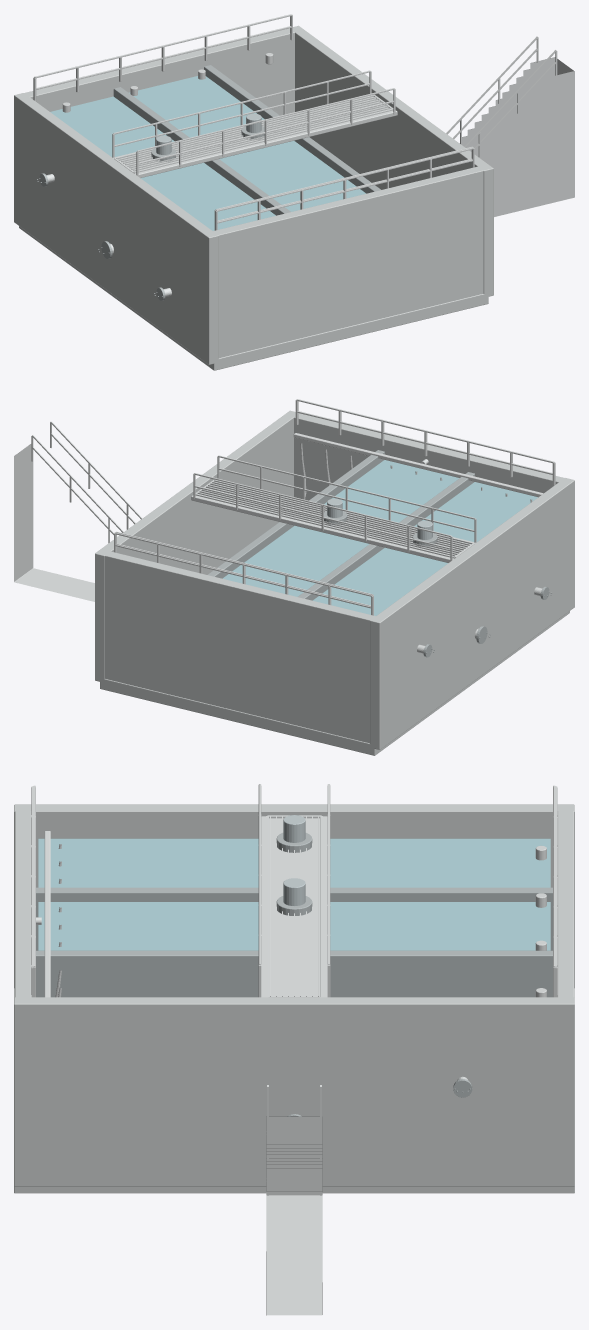
3 views of the same model, one above another, from view 1: azimuth 30°, elevation 25°; view 2: azimuth 150°, elevation 25°; view 3: azimuth 270°, elevation 25° (orthographic). The views are drawn at different scales.
Visible parts, largest first — view 1: render-batch-3, render-batch-4, render-batch-0, render-batch-5, render-batch-1, render-batch-2; view 2: render-batch-3, render-batch-0, render-batch-4, render-batch-5, render-batch-1, render-batch-6, render-batch-2; view 3: render-batch-3, render-batch-0, render-batch-1, render-batch-4, render-batch-5, render-batch-6, render-batch-2.
Part boxes in pixels (x1,y1,x2,y2): render-batch-3: (14,25,493,370); render-batch-4: (33,14,574,230); render-batch-0: (50,76,365,230); render-batch-5: (46,94,397,296); render-batch-1: (36,65,380,300); render-batch-2: (156,113,261,154); render-batch-3: (95,410,574,755); render-batch-0: (223,460,537,615); render-batch-4: (14,399,555,615); render-batch-5: (191,459,542,653); render-batch-1: (207,450,552,657); render-batch-6: (293,433,543,502); render-batch-2: (327,498,432,539); render-batch-3: (14,804,574,1193); render-batch-0: (38,838,550,950); render-batch-1: (36,833,552,1116); render-batch-4: (31,784,557,1315); render-batch-5: (36,815,468,1080); render-batch-6: (44,831,61,997); render-batch-2: (283,815,305,905).
Bounding box in the file's own units: 20.82 × 6.64 × 15.
